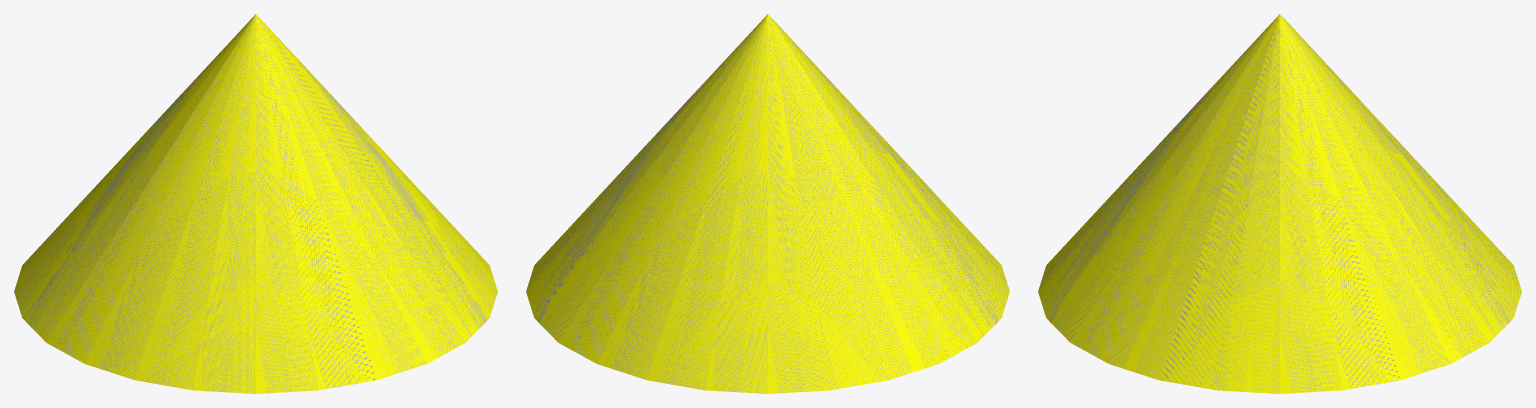
The model's file is cone jaune T.dae.
The picture shows the model from 3 angles, left to right: view 1: azimuth 30°, elevation 25°; view 2: azimuth 150°, elevation 25°; view 3: azimuth 270°, elevation 25°; orthographic projection.
Visible parts, largest first — view 1: SketchUp; view 2: SketchUp; view 3: SketchUp.
Part boxes in pixels (<box>): SketchUp: <box>14,14,497,393</box>; SketchUp: <box>526,14,1009,393</box>; SketchUp: <box>1038,14,1521,393</box>.
Size of the model in its own units: 9266 by 9266 by 5866.
